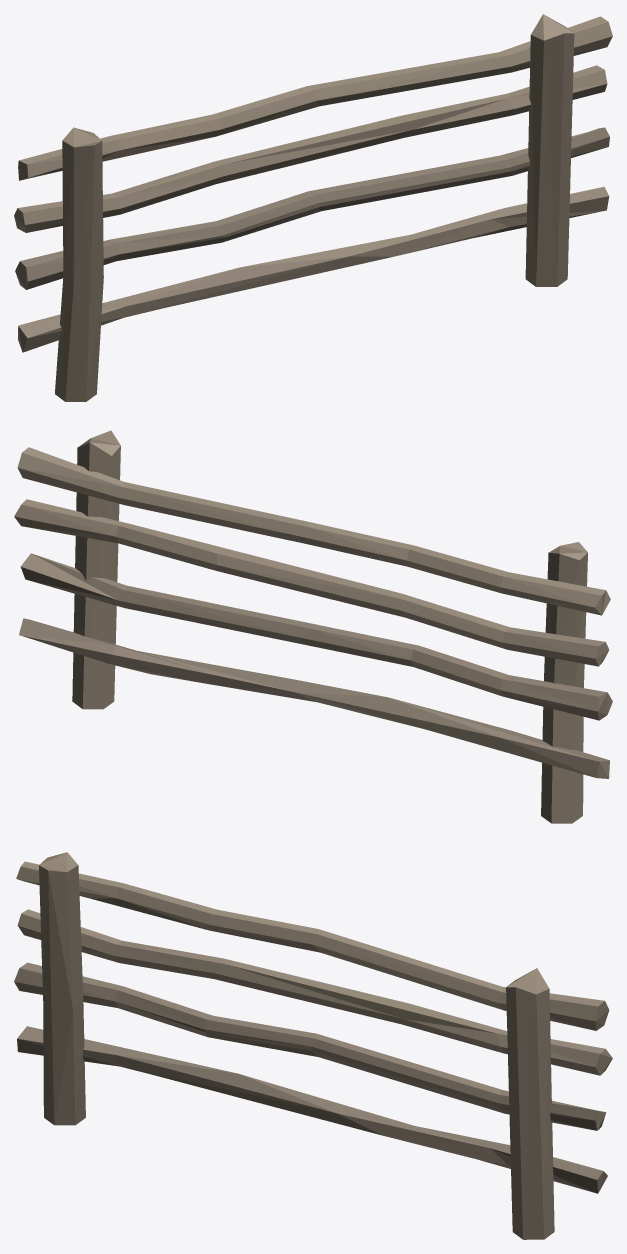
Rendered from wood_fence3.glb.
3 renders of one model, top to bottom at view 1: azimuth 30°, elevation 25°; view 2: azimuth 150°, elevation 25°; view 3: azimuth 330°, elevation 25°, orthographic.
Visible parts, largest first — view 1: estructura.cerca.wood_fence3; view 2: estructura.cerca.wood_fence3; view 3: estructura.cerca.wood_fence3.
Boxes of the visible parts, x1,y1,x2,y2 form: estructura.cerca.wood_fence3: [14, 14, 612, 401]; estructura.cerca.wood_fence3: [14, 430, 612, 823]; estructura.cerca.wood_fence3: [14, 852, 612, 1239].
Size of the model in its own units: 3.71 by 1.6 by 0.3625.
